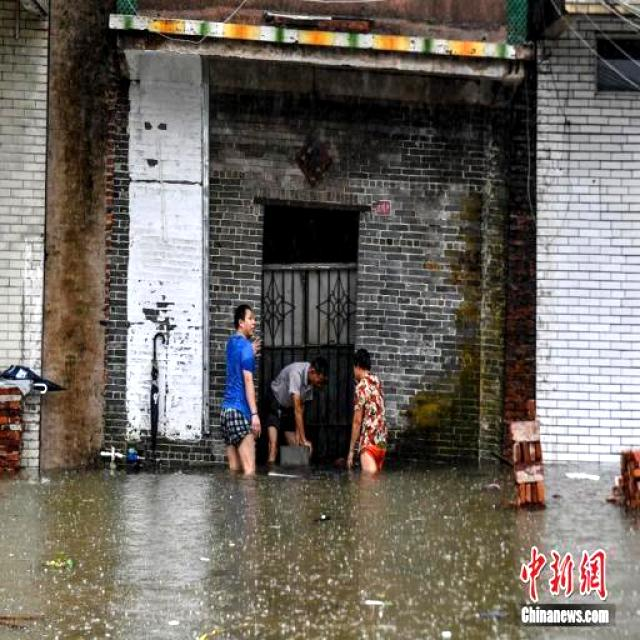civilian: (214, 290, 268, 497), (259, 338, 329, 483), (344, 352, 403, 492)
